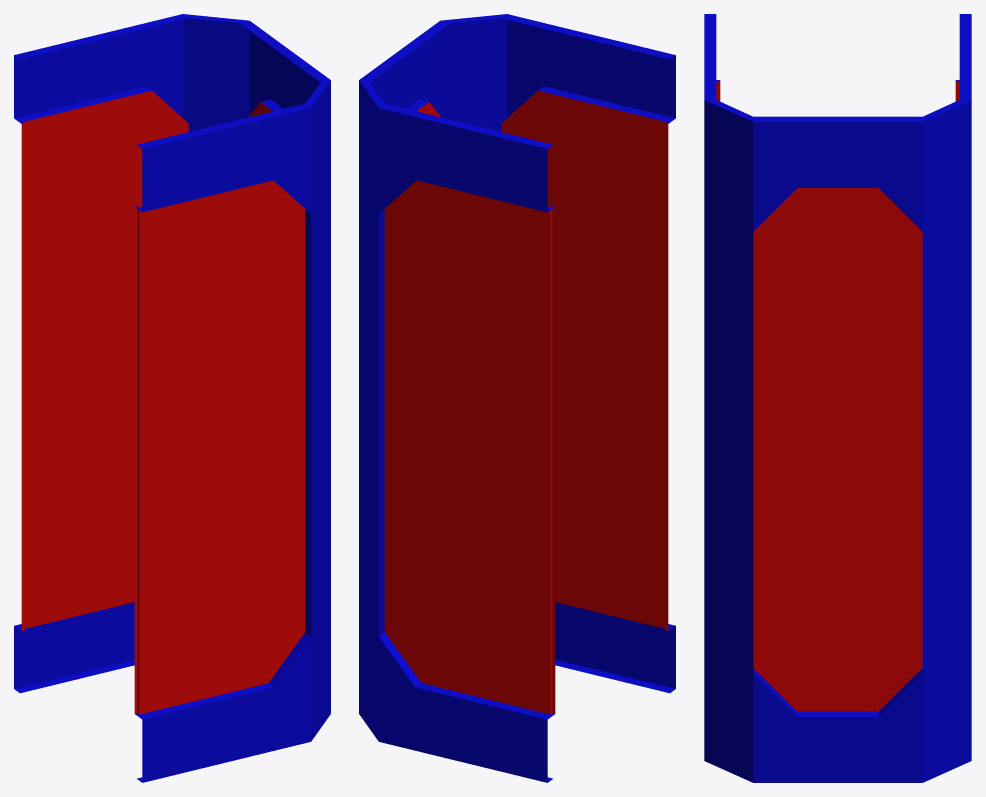
Rendered from block8.fbx.
3 views of the same model, side by side, from view 1: azimuth 30°, elevation 25°; view 2: azimuth 150°, elevation 25°; view 3: azimuth 270°, elevation 25° (orthographic). The views are drawn at different scales.
Visible parts, largest first — view 1: muro_block8; view 2: muro_block8; view 3: muro_block8.
Boxes of the visible parts, x1,y1,x2,y2 form: muro_block8: (14,14,330,782); muro_block8: (359,14,675,782); muro_block8: (704,14,971,782).
Size of the model in its own units: 105 by 300 by 110.
